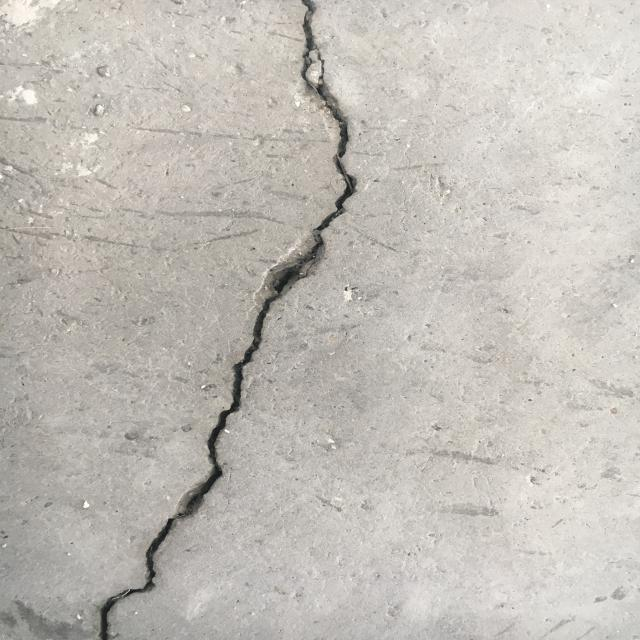Rachadura: (100, 0, 355, 640)
